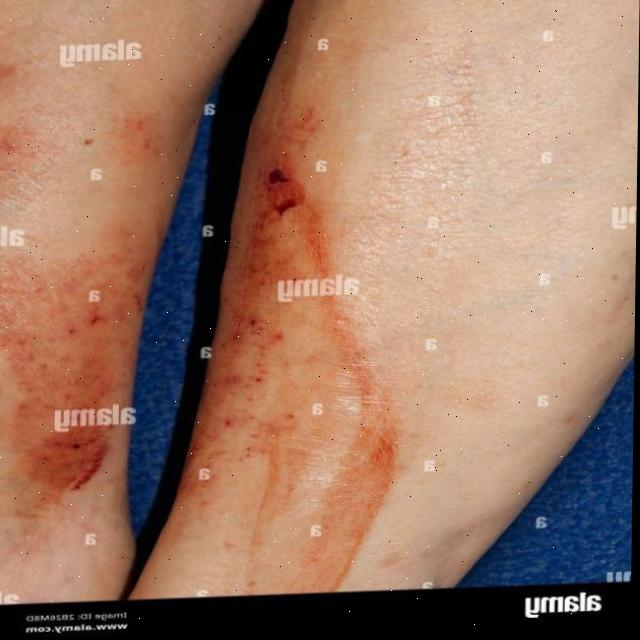Eczema: (0, 150, 422, 554)
